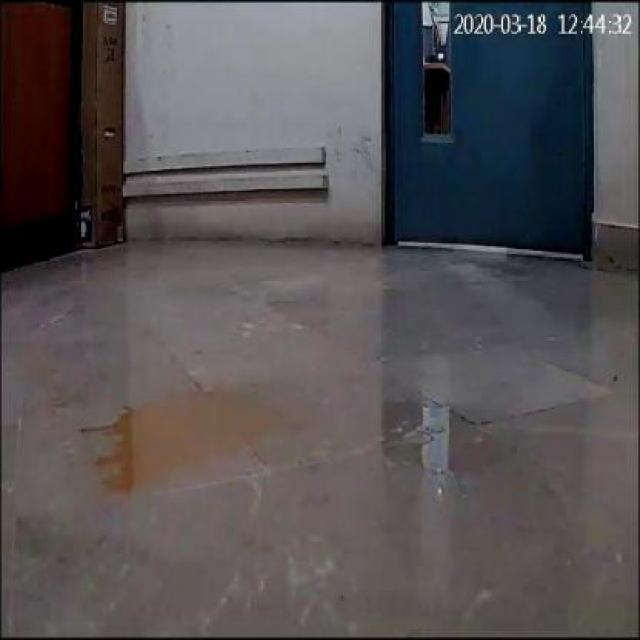spill: (91, 389, 262, 491), (380, 388, 505, 484)
